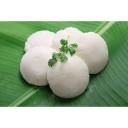idly: (47, 52, 89, 97), (20, 48, 58, 86), (77, 32, 109, 74), (26, 31, 57, 56), (54, 27, 80, 55)
